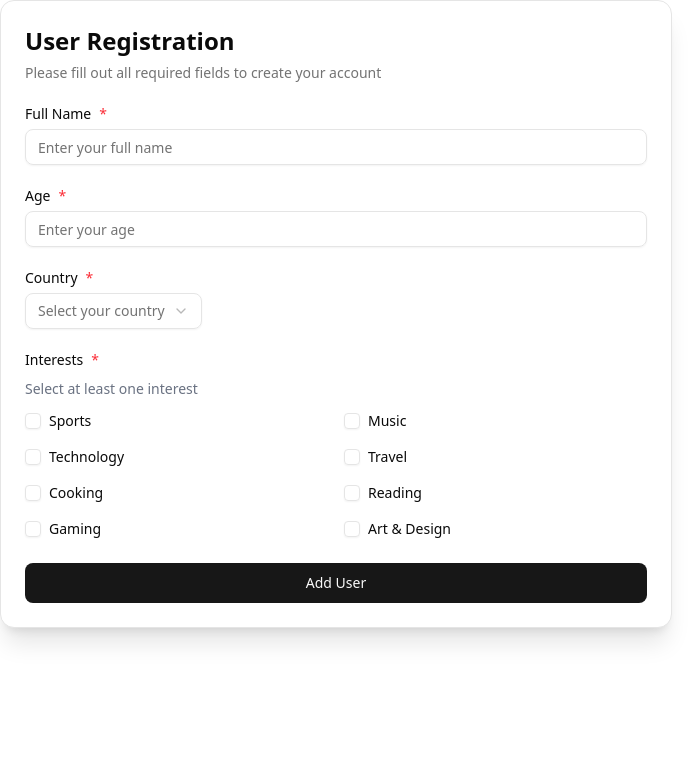
UserForm › Validation › shows error when age is less than 18
This screenshot has width=689, height=778.
Type "17" into the number field labelled "Age *" at (336, 229), box top-left (25, 211), bottom-right (647, 247)
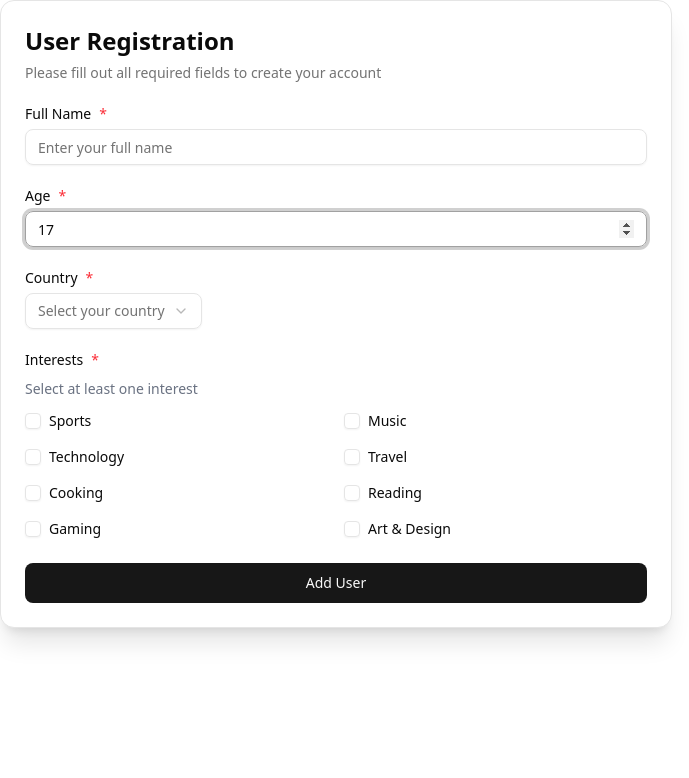
Click the button "Add User" at (336, 583), box top-left (25, 563), bottom-right (647, 603)
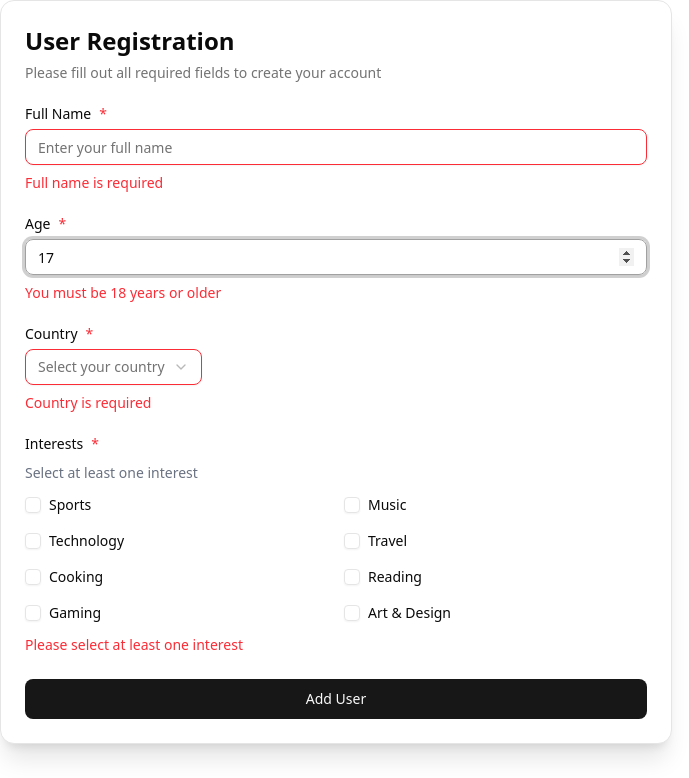
Check: the text "You must be 18 years or older" is shown, box top-left (25, 283), bottom-right (221, 302)
